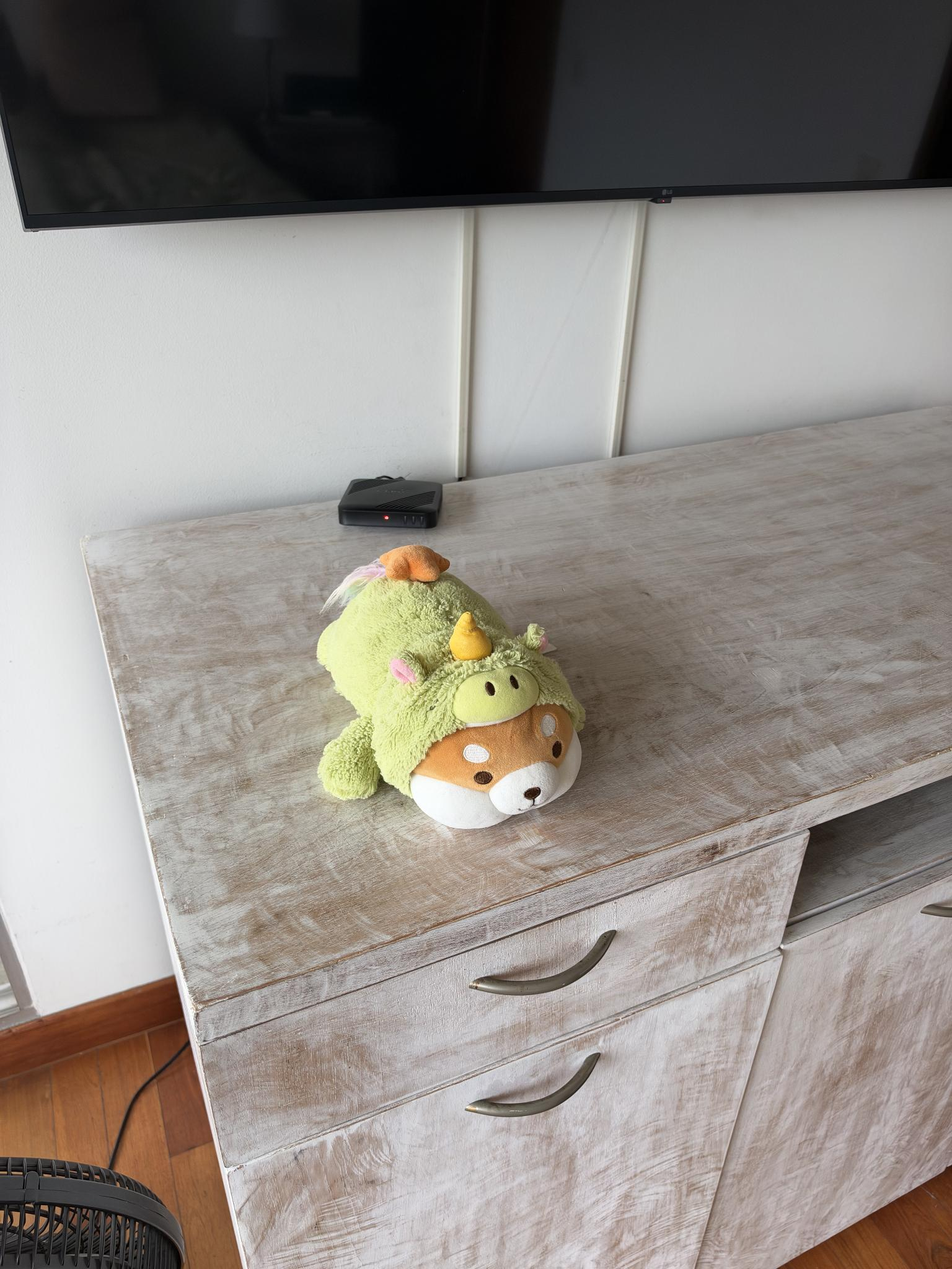peluche_martin: (316, 544, 587, 830)
